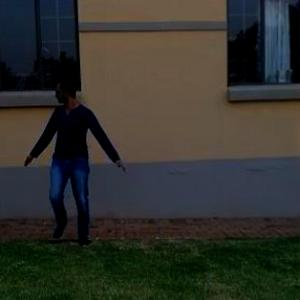land: (23, 75, 123, 244)
